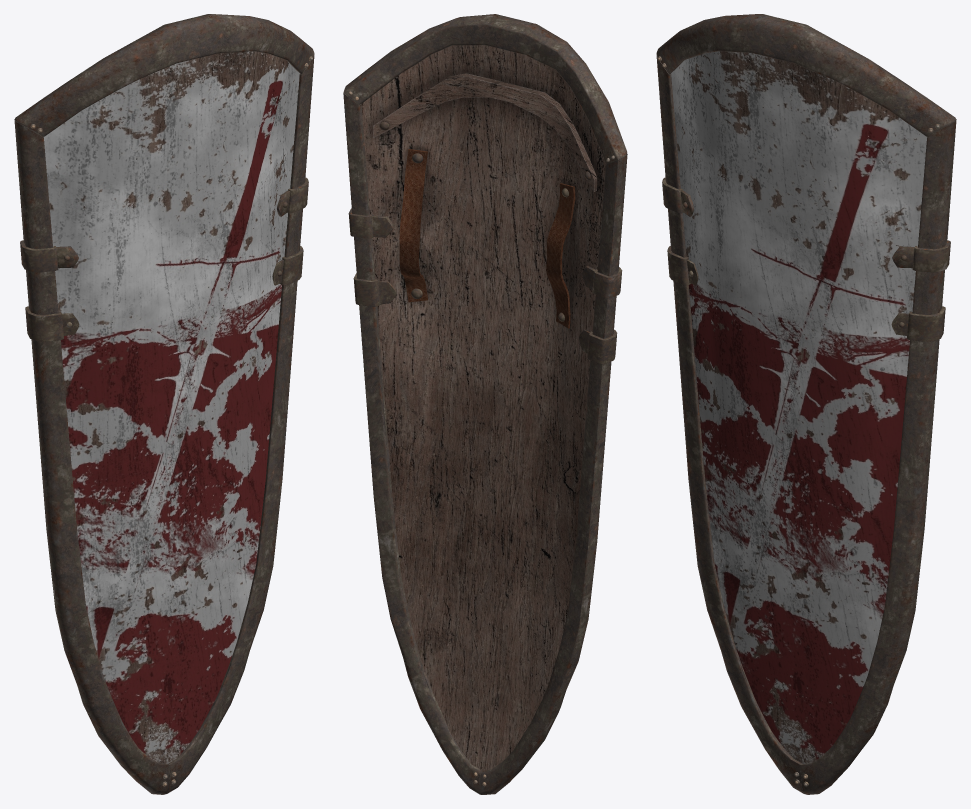
File: kite_shield.glb
The picture shows the model from 3 angles, left to right: view 1: azimuth 30°, elevation 25°; view 2: azimuth 150°, elevation 25°; view 3: azimuth 330°, elevation 25°; orthographic projection. The views are drawn at different scales.
Parts seen in each view (by area): view 1: kite_shield_body, kite_shield_metal_trim, kite_shield_clamps_and_bolts; view 2: kite_shield_body, kite_shield_metal_trim, kite_shield_clamps_and_bolts; view 3: kite_shield_body, kite_shield_metal_trim, kite_shield_clamps_and_bolts.
Part boxes in pixels (x1,y1,x2,y2): kite_shield_body: (43,51,299,763); kite_shield_metal_trim: (14,14,314,794); kite_shield_clamps_and_bolts: (20,56,312,786); kite_shield_body: (361,45,606,770); kite_shield_metal_trim: (343,14,627,794); kite_shield_clamps_and_bolts: (348,91,622,786); kite_shield_body: (671,51,927,763); kite_shield_metal_trim: (656,14,956,794); kite_shield_clamps_and_bolts: (658,56,950,786).
Size of the model in its own units: 0.5432 by 1.39 by 0.1347.
Materials: 2 (2 with a texture image).
